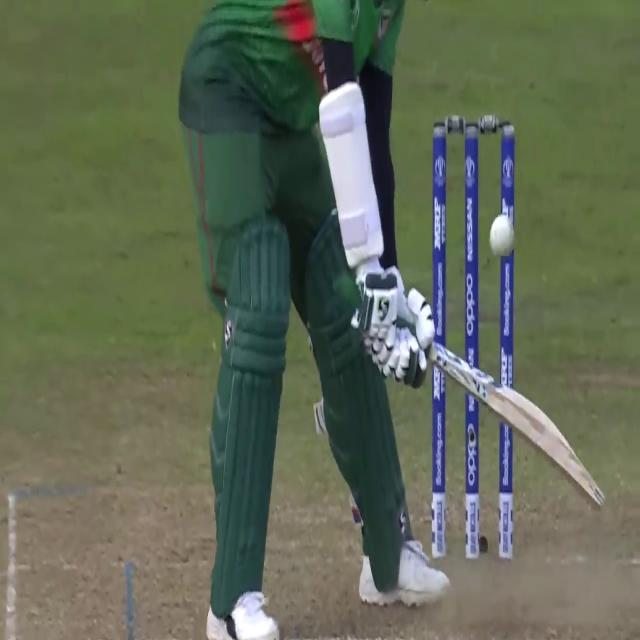ball: (485, 208, 517, 260)
